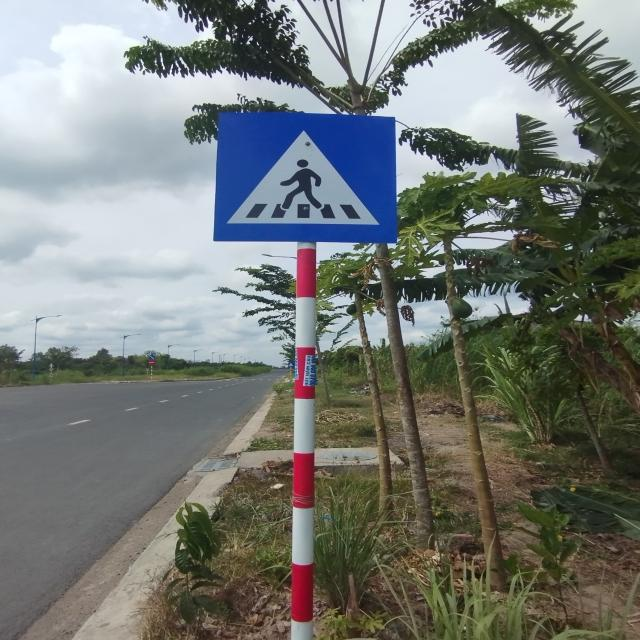Giao_Nhau_Duong_Uu_Tien: (216, 112, 397, 243)
